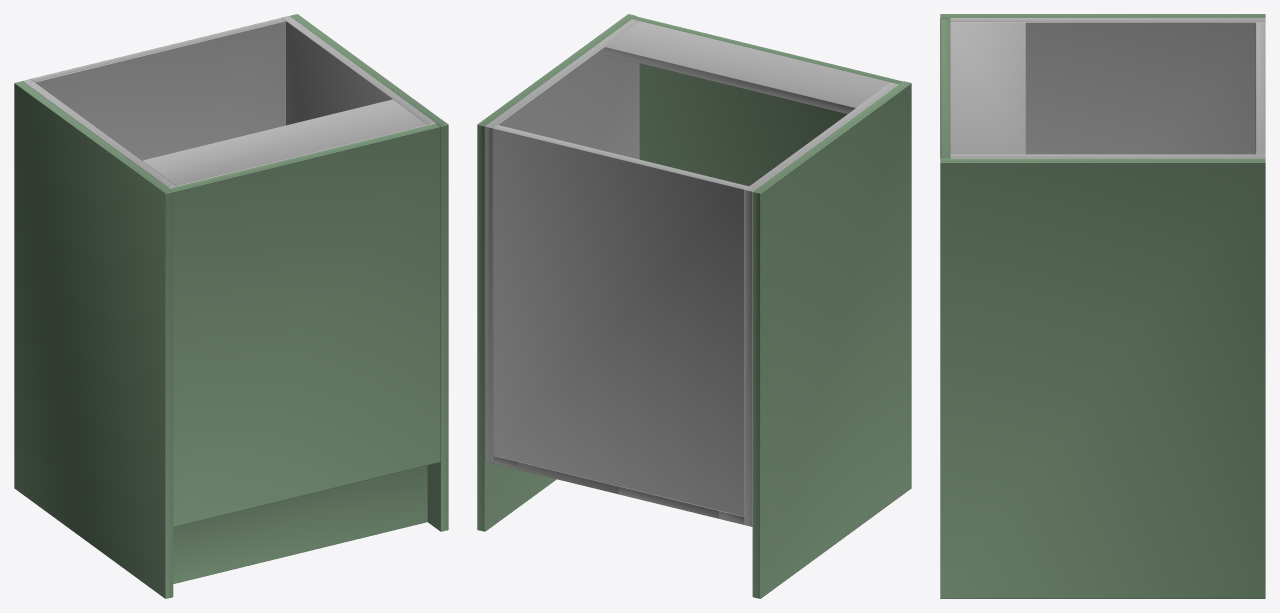
Rendered from cabinet.glb.
The picture shows the model from 3 angles, left to right: view 1: azimuth 30°, elevation 25°; view 2: azimuth 150°, elevation 25°; view 3: azimuth 270°, elevation 25°; orthographic projection. The views are drawn at different scales.
Visible parts, largest first — view 1: Plane.007, Plane.009, Plane.002, Plane.005, Plane.003, Plane.001, Plane, Plane.008; view 2: Plane.002, Plane.009, Plane.007, Plane.001, Plane.003, Plane, Plane.008, Plane.006; view 3: Plane, Plane.008, Plane.003, Plane.001, Plane.007, Plane.002, Plane.009.
Boxes of the visible parts, x1,y1,x2,y2 form: Plane.007: [169, 123, 440, 526]; Plane.009: [14, 81, 173, 598]; Plane.002: [30, 17, 285, 160]; Plane.005: [173, 465, 427, 583]; Plane.003: [142, 99, 427, 186]; Plane.001: [282, 16, 435, 125]; Plane: [290, 14, 448, 531]; Plane.008: [22, 79, 176, 188]; Plane.002: [493, 125, 748, 516]; Plane.009: [752, 81, 911, 598]; Plane.007: [632, 16, 902, 186]; Plane.001: [485, 19, 639, 463]; Plane.003: [605, 21, 890, 113]; Plane: [477, 14, 635, 531]; Plane.008: [744, 82, 898, 526]; Plane.006: [493, 455, 744, 524]; Plane: [940, 158, 1265, 598]; Plane.008: [950, 18, 1265, 154]; Plane.003: [950, 22, 1025, 154]; Plane.001: [950, 154, 1265, 158]; Plane.007: [940, 18, 950, 158]; Plane.002: [1255, 22, 1265, 154]; Plane.009: [940, 14, 1265, 158].
Bounding box in the file's own units: 0.636 × 0.8703 × 0.588.
